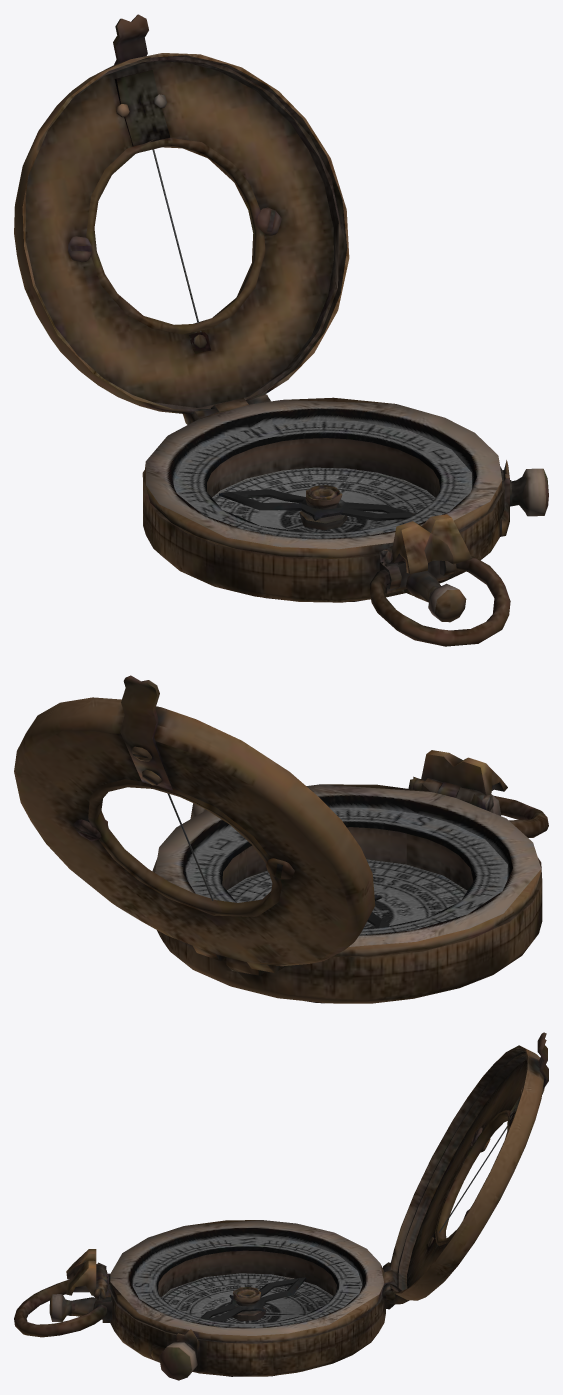
File: seadogs_compass.glb
The picture shows the model from 3 angles, top to bottom: view 1: azimuth 30°, elevation 25°; view 2: azimuth 150°, elevation 25°; view 3: azimuth 270°, elevation 25°; orthographic projection. The views are drawn at different scales.
Visible parts, largest first — view 1: seadogs_compass_lid, seadogs_compass, seadogs_compass_needle; view 2: seadogs_compass_lid, seadogs_compass; view 3: seadogs_compass, seadogs_compass_lid, seadogs_compass_needle.
Part boxes in pixels (x1,y1,x2,y2): seadogs_compass_lid: (14, 14, 349, 424); seadogs_compass: (142, 397, 548, 646); seadogs_compass_needle: (219, 489, 414, 521); seadogs_compass_lid: (14, 675, 375, 972); seadogs_compass: (152, 750, 548, 1003); seadogs_compass: (14, 1220, 397, 1380); seadogs_compass_lid: (382, 1032, 548, 1304); seadogs_compass_needle: (200, 1277, 305, 1321).
Size of the model in its own units: 0.0813 by 0.0867 by 0.1443.
Materials: 1 (1 with a texture image).
